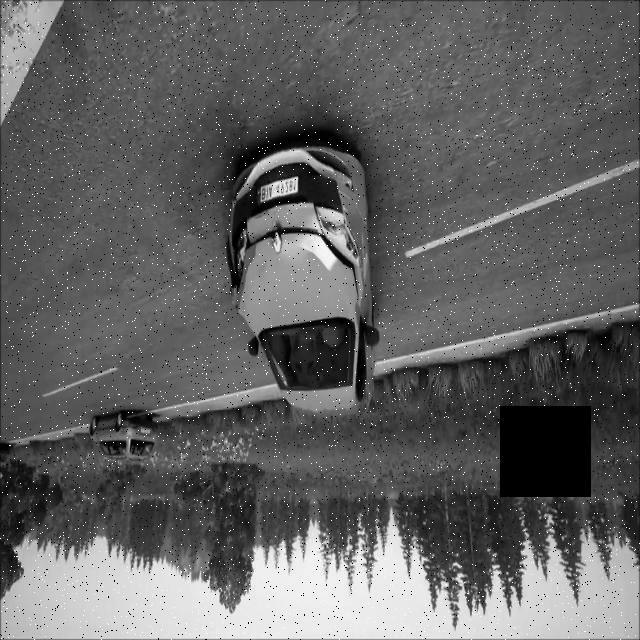moderate: (222, 130, 382, 424)
